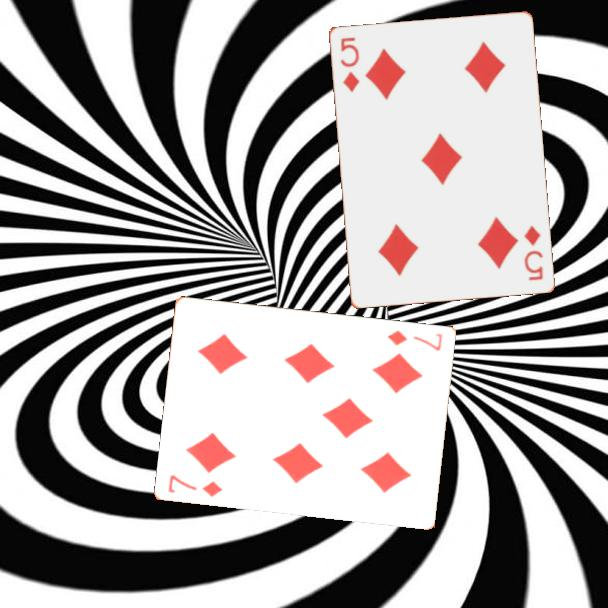d05: (337, 33, 362, 95), (520, 222, 545, 283)
d07: (165, 471, 226, 500), (384, 326, 446, 354)
